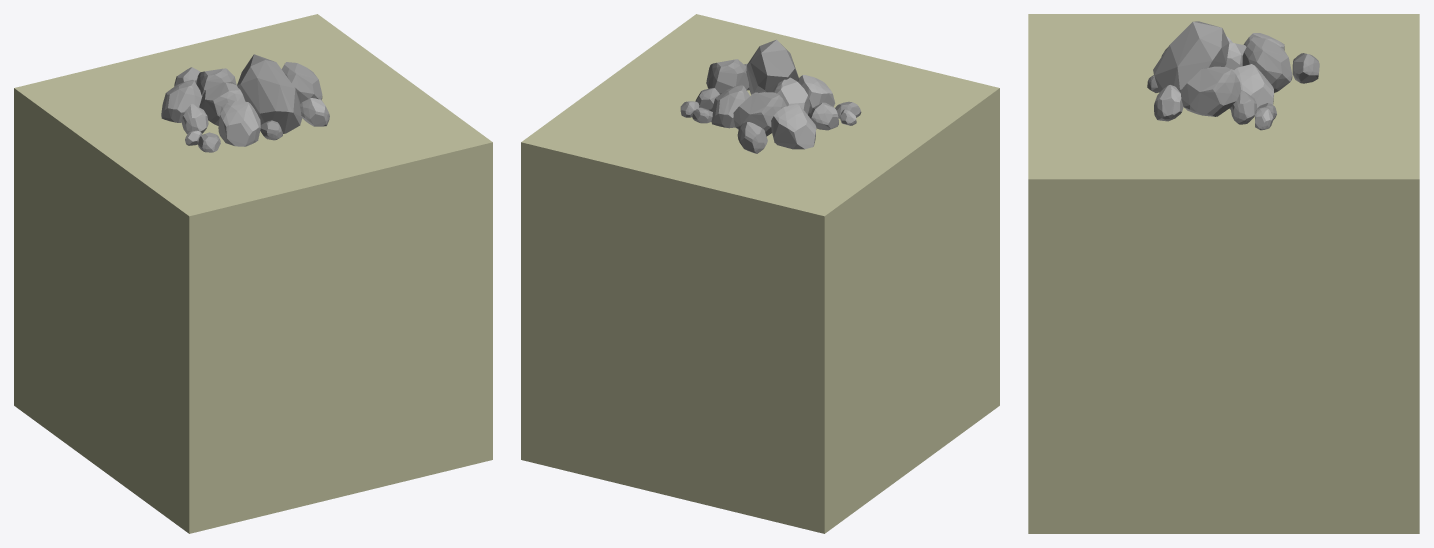
The model's file is constructioncube.glb.
The picture shows the model from 3 angles, left to right: view 1: azimuth 30°, elevation 25°; view 2: azimuth 150°, elevation 25°; view 3: azimuth 270°, elevation 25°; orthographic projection. The views are drawn at different scales.
Visible parts, largest first — view 1: Cube.056, Cube.057, Cube.059, Cube.063, Cube.058, Cube.066, Cube.071, Cube.062, Cube.061; view 2: Cube.056, Cube.057, Cube.063, Cube.062, Cube.066, Cube.067, Cube.059, Cube.058, Cube.064, Cube.061; view 3: Cube.056, Cube.057, Cube.066, Cube.062, Cube.067, Cube.071, Cube.064, Cube.074.
Boxes of the visible parts, x1,y1,x2,y2 form: Cube.056: (14, 14, 492, 533); Cube.057: (237, 54, 302, 133); Cube.059: (218, 101, 260, 146); Cube.063: (161, 80, 202, 122); Cube.058: (199, 82, 245, 125); Cube.066: (281, 62, 322, 103); Cube.071: (300, 98, 329, 126); Cube.062: (196, 68, 236, 96); Cube.061: (181, 104, 208, 134); Cube.056: (521, 14, 999, 533); Cube.057: (746, 39, 798, 94); Cube.063: (771, 104, 816, 149); Cube.062: (733, 92, 786, 136); Cube.066: (706, 59, 749, 93); Cube.067: (711, 84, 749, 128); Cube.059: (797, 75, 835, 116); Cube.058: (773, 77, 809, 114); Cube.064: (737, 122, 767, 153); Cube.061: (809, 102, 838, 130); Cube.056: (1028, 14, 1419, 533); Cube.057: (1153, 21, 1229, 92); Cube.066: (1180, 66, 1241, 116); Cube.062: (1242, 37, 1292, 92); Cube.067: (1229, 64, 1273, 109); Cube.071: (1154, 85, 1183, 121); Cube.064: (1292, 53, 1319, 83); Cube.074: (1230, 90, 1257, 124).
Size of the model in its own units: 25.45 by 30.74 by 25.45.
